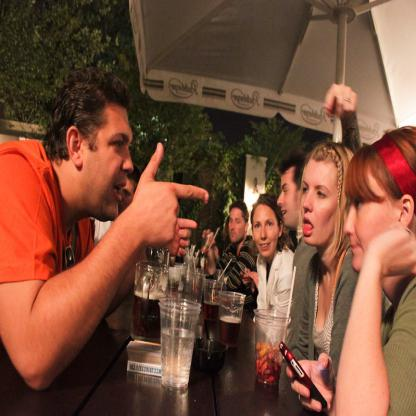drinking: (130, 245, 170, 343), (218, 291, 246, 347), (204, 279, 224, 321)
